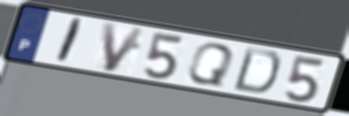5: (140, 29, 189, 82), (281, 52, 330, 105)
D: (230, 44, 284, 96)
I: (52, 16, 87, 66)
Q: (184, 42, 237, 88)
V: (100, 21, 149, 75)
